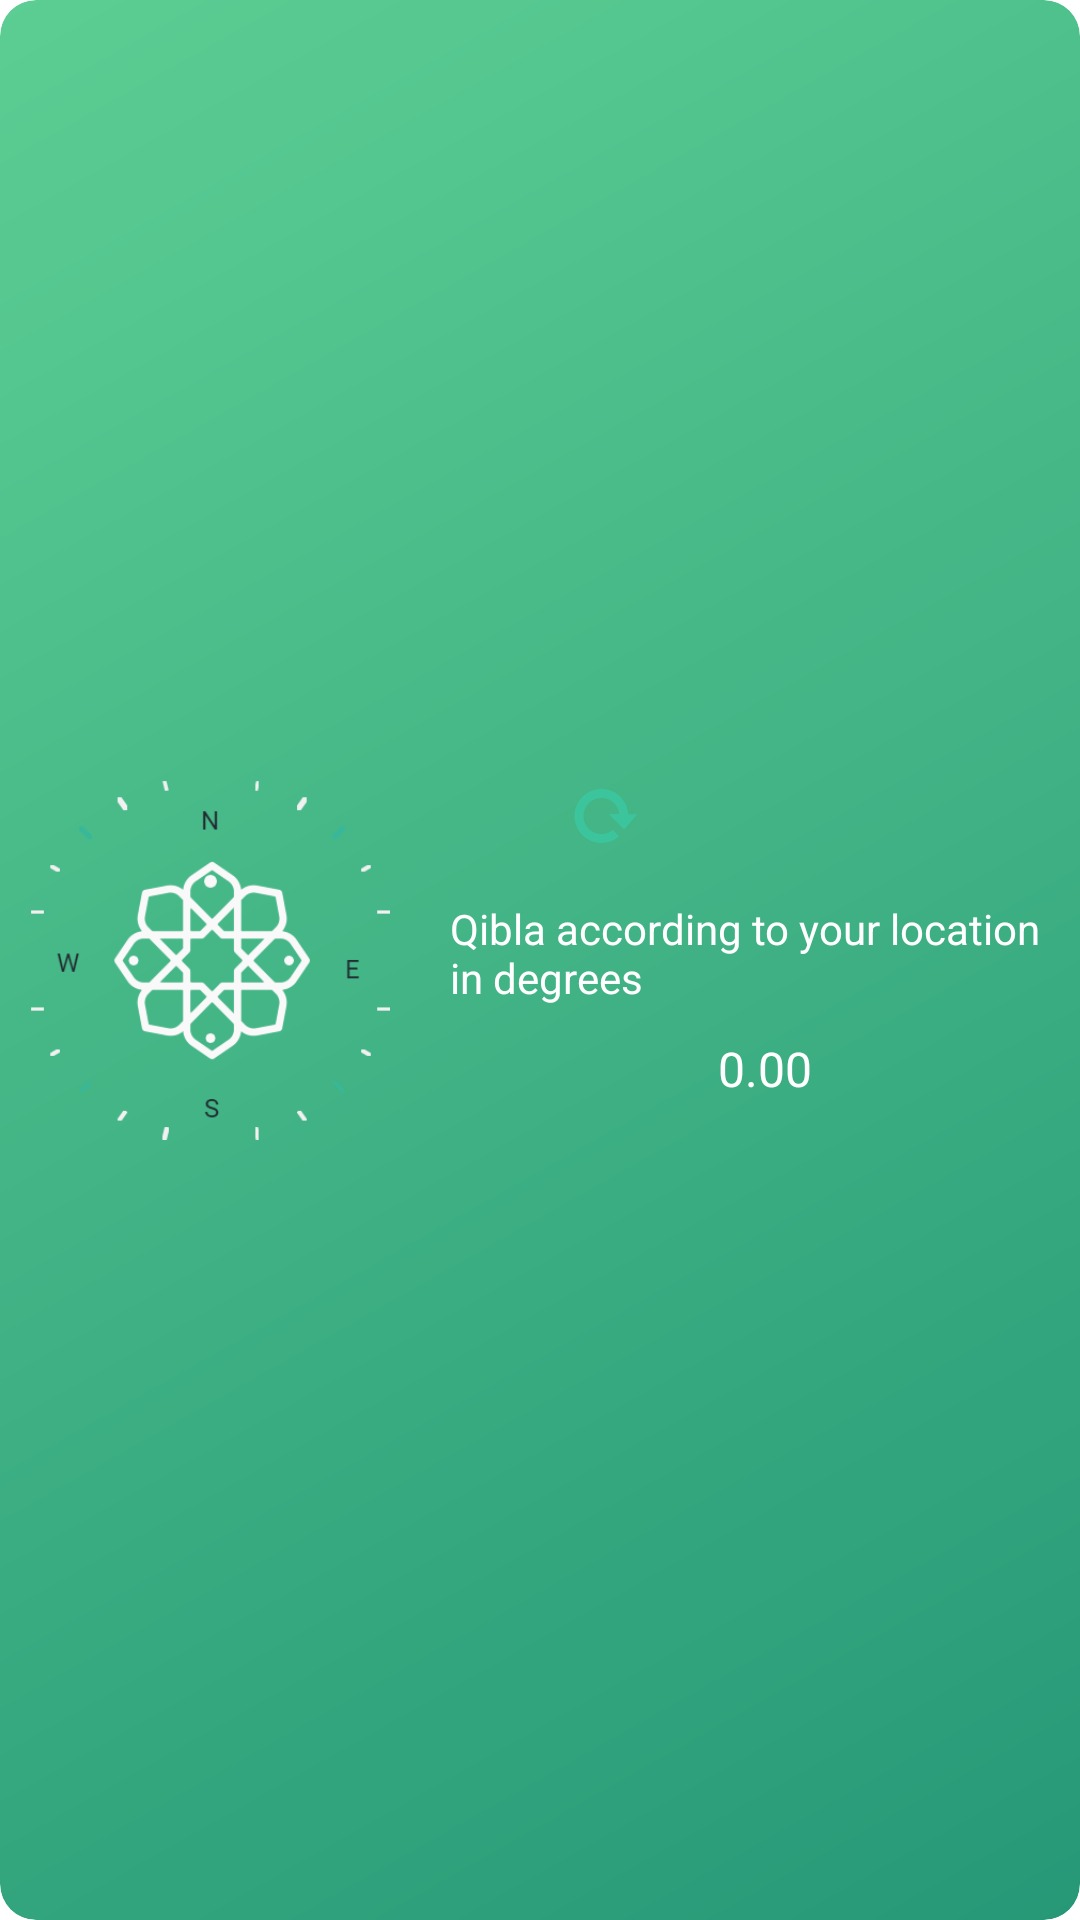

Icon bounding boxes for this 1080x1920 phone screenshot, format (x1, y1, x2, y2):
compass: (31, 781, 390, 1140)
